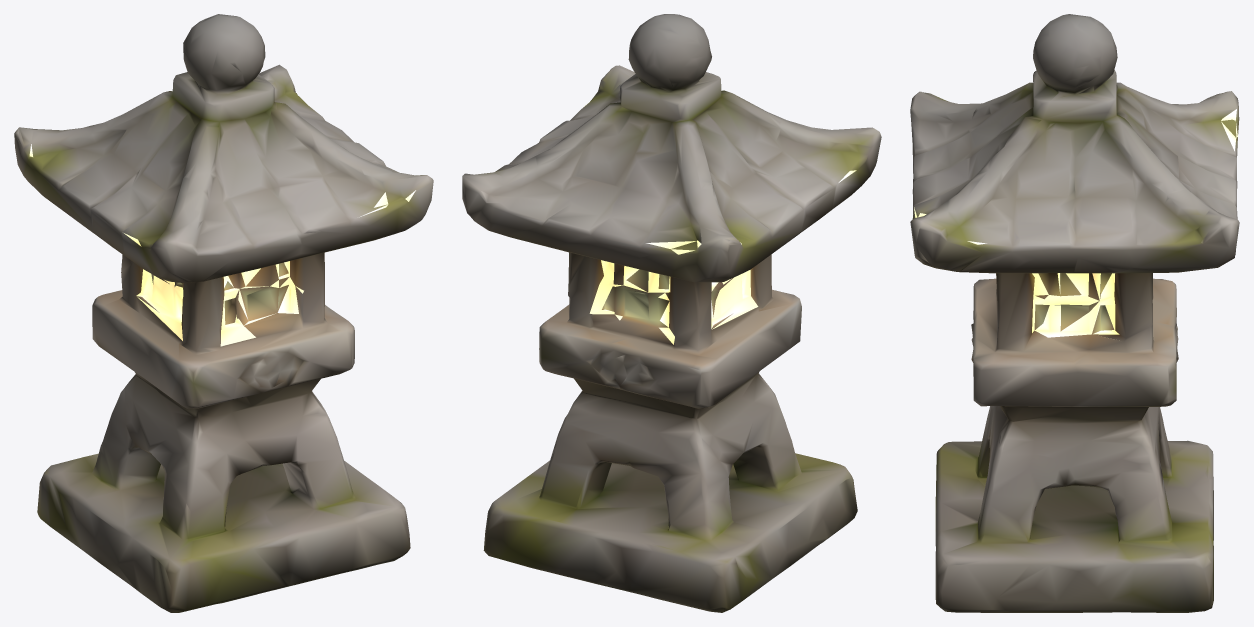
File: lantern-low.glb
3 views of the same model, side by side, from view 1: azimuth 30°, elevation 25°; view 2: azimuth 150°, elevation 25°; view 3: azimuth 270°, elevation 25° (orthographic). The views are drawn at different scales.
Parts seen in each view (by area): view 1: lantern-low; view 2: lantern-low; view 3: lantern-low.
Part boxes in pixels (left/top/right/bottom): lantern-low: left=14, top=14, right=433, bottom=612; lantern-low: left=462, top=14, right=881, bottom=612; lantern-low: left=910, top=14, right=1239, bottom=612.
Size of the model in its own units: 0.9788 by 1.8 by 1.
